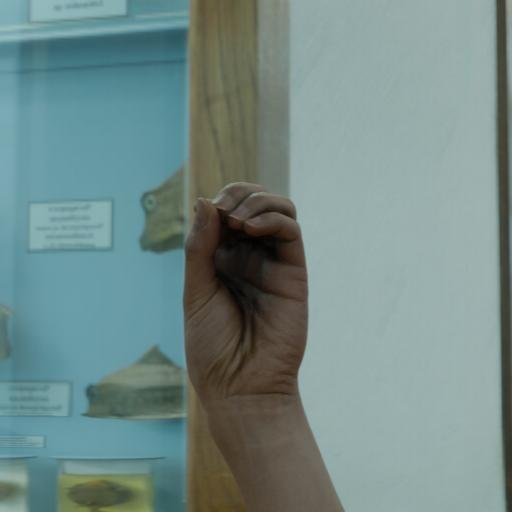O: (152, 171, 342, 413)
